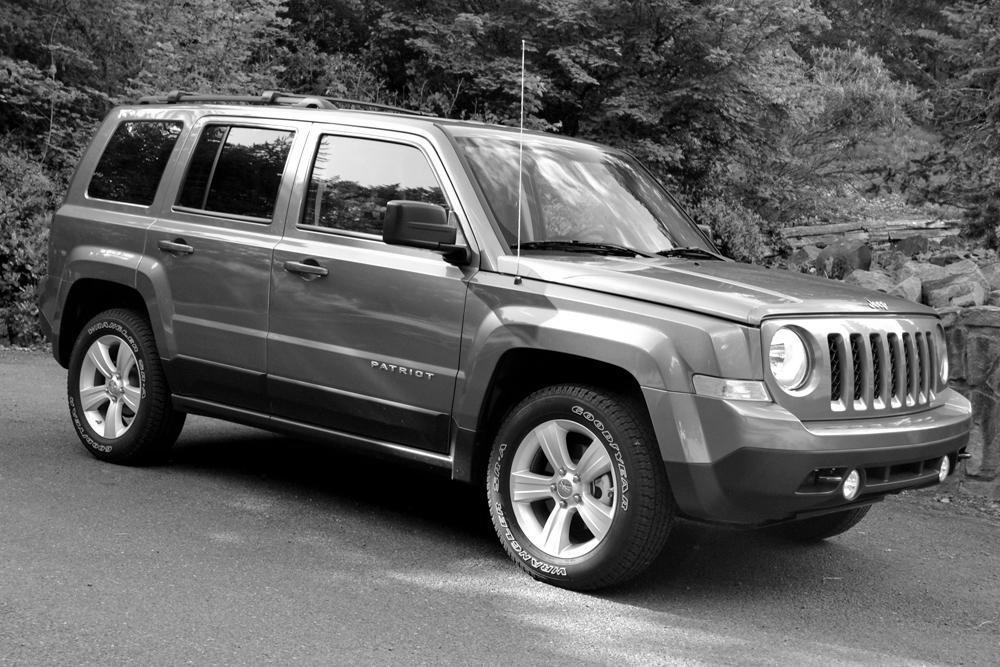car: (48, 79, 978, 600)
